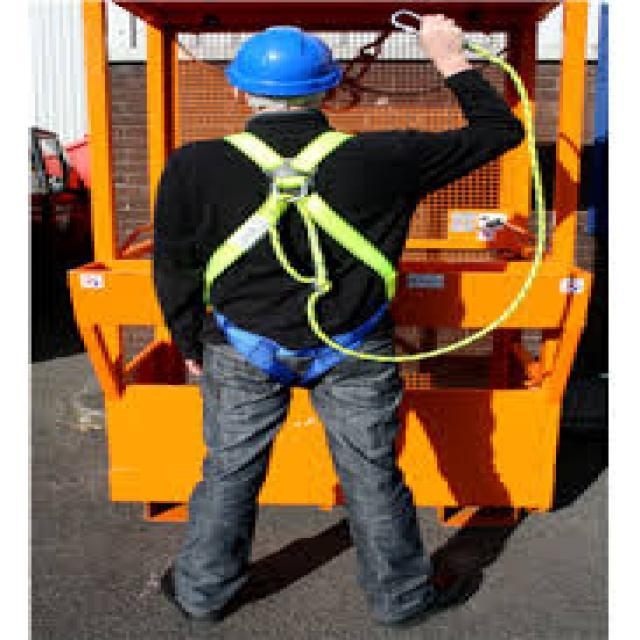belt: (194, 112, 424, 387)
